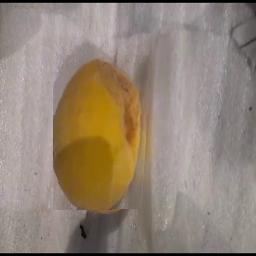Peach Rotten: (54, 56, 152, 211)
